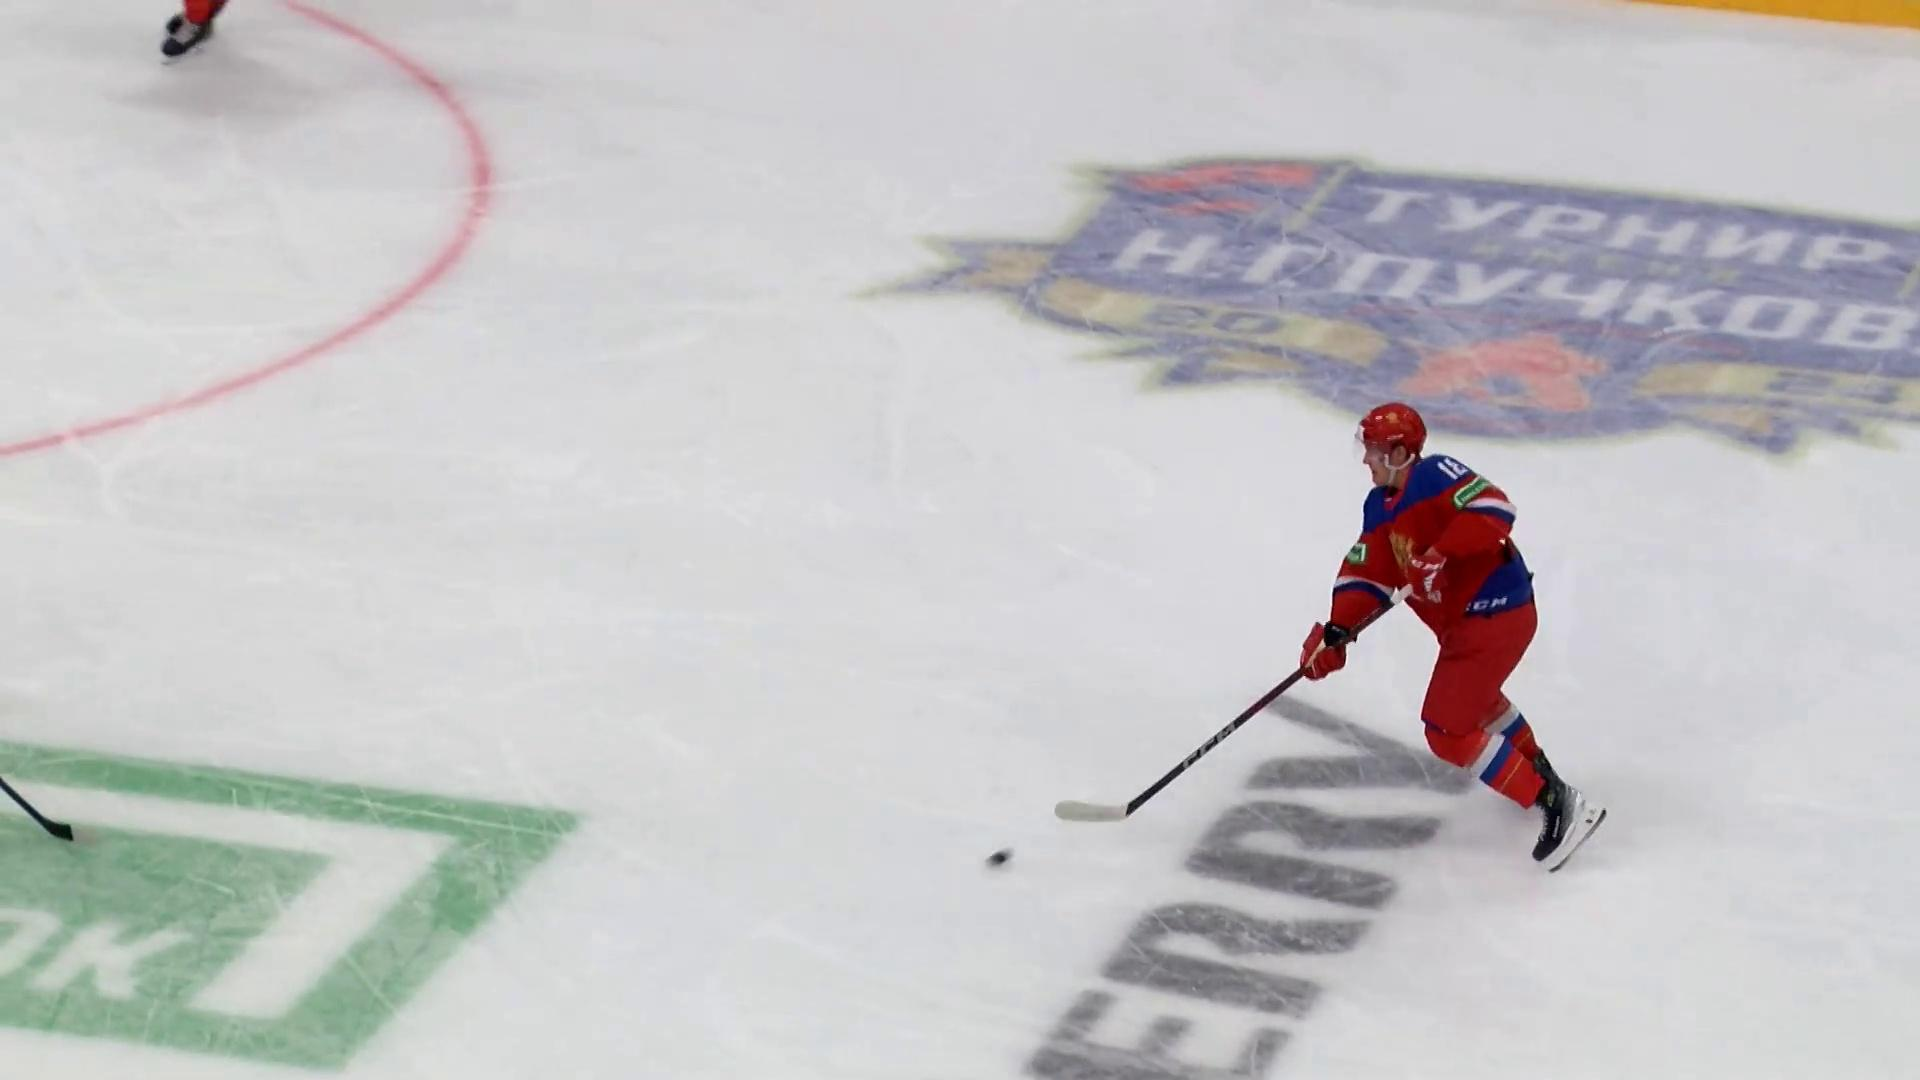ball: (984, 853, 1013, 869)
